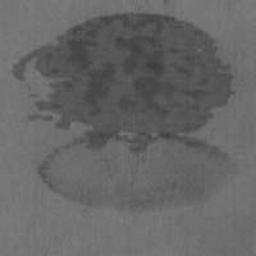Oil spot: (12, 10, 239, 215)
